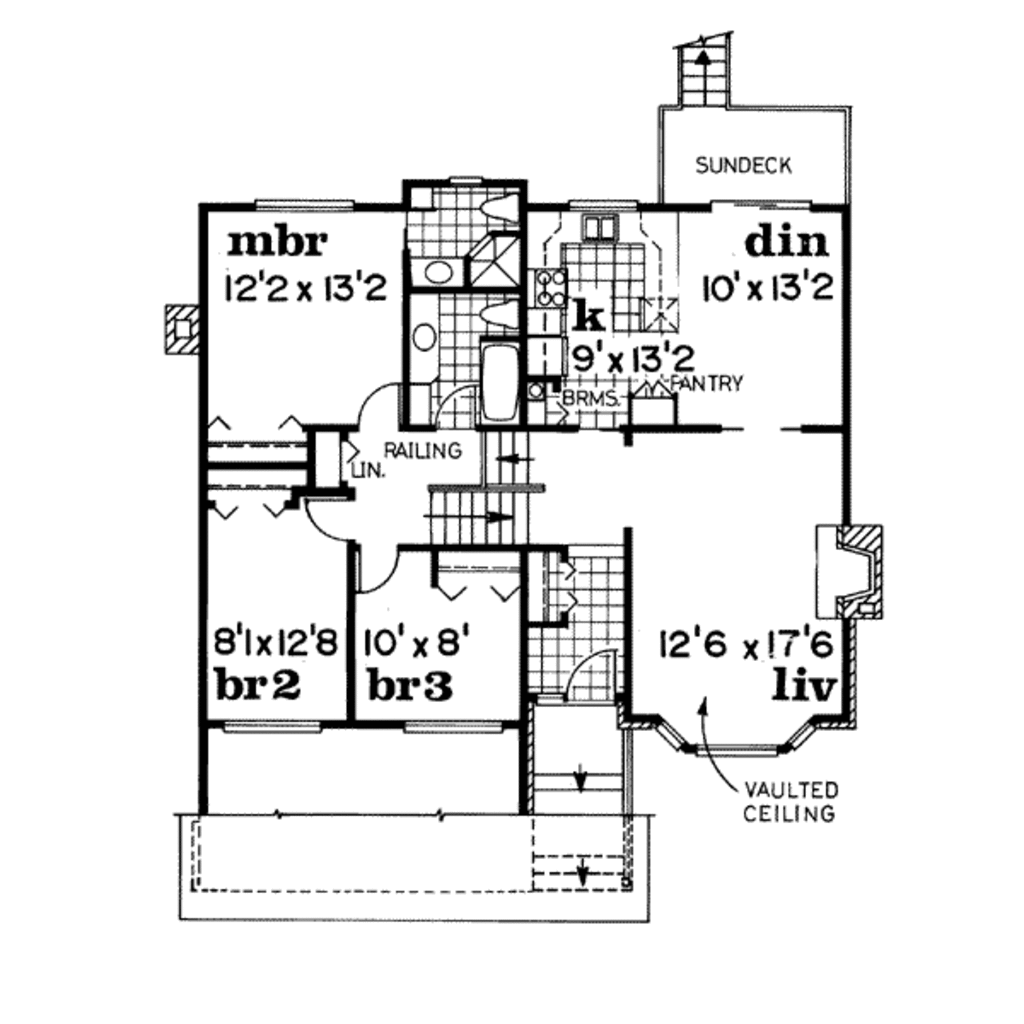door: (356, 378, 408, 443), (564, 641, 618, 703), (345, 544, 394, 597), (302, 497, 352, 539)
large_sink: (479, 189, 522, 230), (476, 298, 519, 335)
small_sink: (406, 297, 443, 379), (394, 251, 465, 287)
stairs: (529, 743, 645, 912), (418, 424, 545, 544), (675, 20, 735, 117)
tub: (483, 339, 516, 430)
twin_sink: (581, 201, 622, 251)
window: (648, 709, 822, 765), (400, 716, 508, 744), (222, 717, 330, 744), (246, 192, 356, 217)
